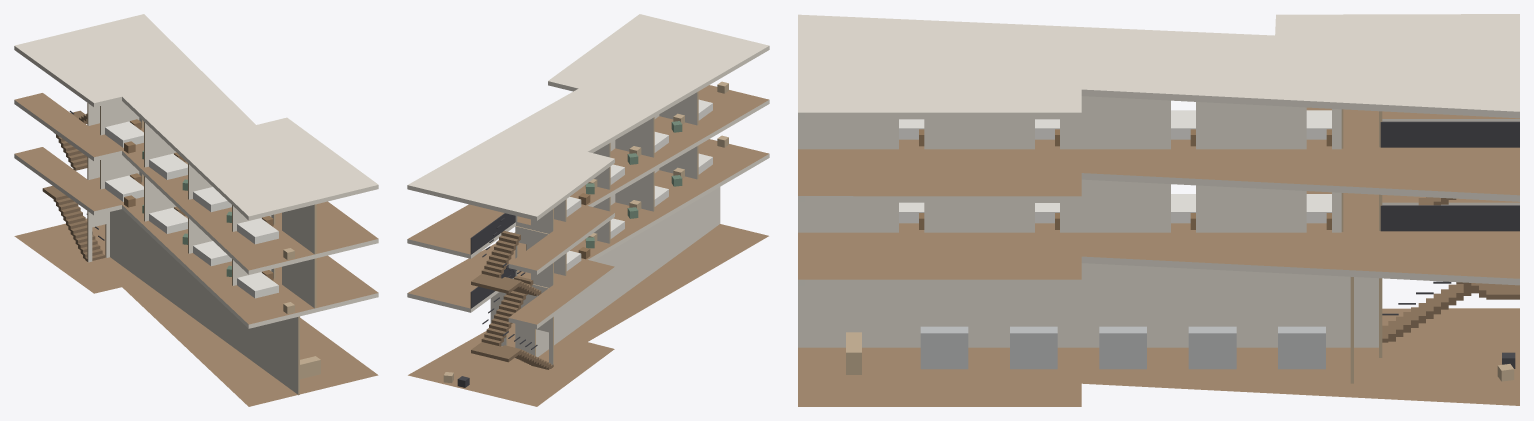
File: interior.glb
The picture shows the model from 3 angles, left to right: view 1: azimuth 30°, elevation 25°; view 2: azimuth 150°, elevation 25°; view 3: azimuth 270°, elevation 25°; orthographic projection. The views are drawn at different scales.
Visible parts, largest first — view 1: slabs, partitions, coarse-s2, coarse-s1, stair, coarse-s0; view 2: slabs, partitions, stair, coarse-s1, coarse-s2; view 3: slabs, partitions, coarse-s0, stair, coarse-s1, coarse-s2.
Part boxes in pixels (<box>): slabs: <box>14,14,378,406</box>; partitions: <box>87,101,316,395</box>; coarse-s2: <box>105,119,294,259</box>; coarse-s1: <box>105,173,294,314</box>; stair: <box>42,110,104,261</box>; coarse-s0: <box>300,356,320,379</box>; slabs: <box>407,14,769,406</box>; partitions: <box>490,91,720,366</box>; stair: <box>470,213,553,369</box>; coarse-s1: <box>566,135,728,270</box>; coarse-s2: <box>566,81,728,216</box>; slabs: <box>798,14,1519,406</box>; partitions: <box>798,96,1382,383</box>; coarse-s0: <box>846,326,1515,381</box>; stair: <box>1380,121,1519,342</box>; coarse-s1: <box>899,194,1331,229</box>; coarse-s2: <box>899,110,1331,146</box>.
Size of the model in its own units: 8.37 by 11.64 by 25.84.
